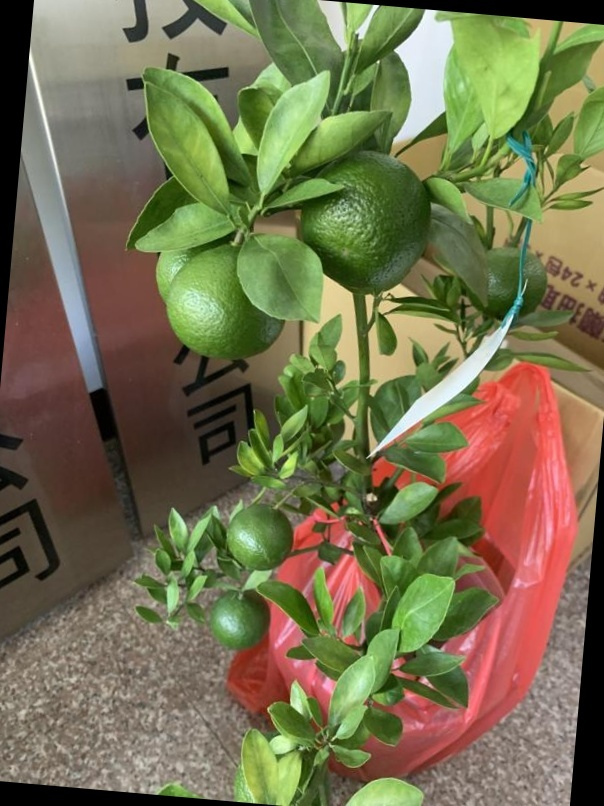Tangerine: (303, 147, 434, 298), (156, 243, 286, 360), (228, 495, 295, 569), (211, 586, 271, 651)
